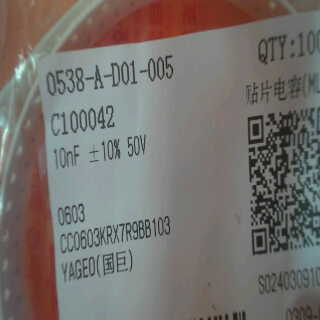10nF: (54, 141, 81, 174)
